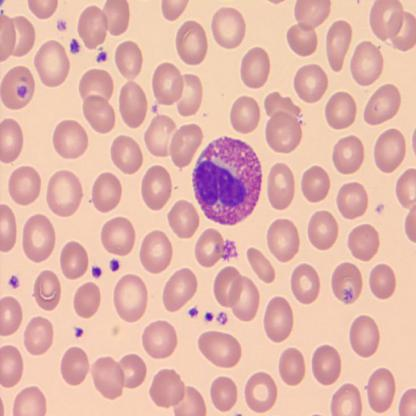Eosinophil: (192, 134, 263, 224)
